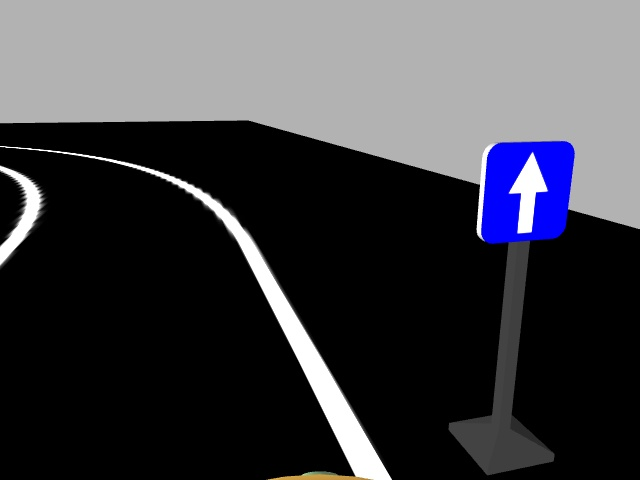OneWay: (475, 141, 573, 239)
